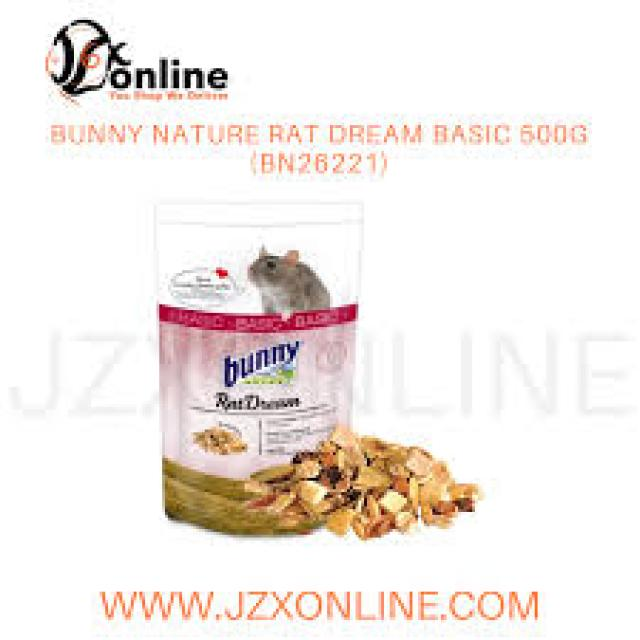rat: (245, 242, 330, 318)
